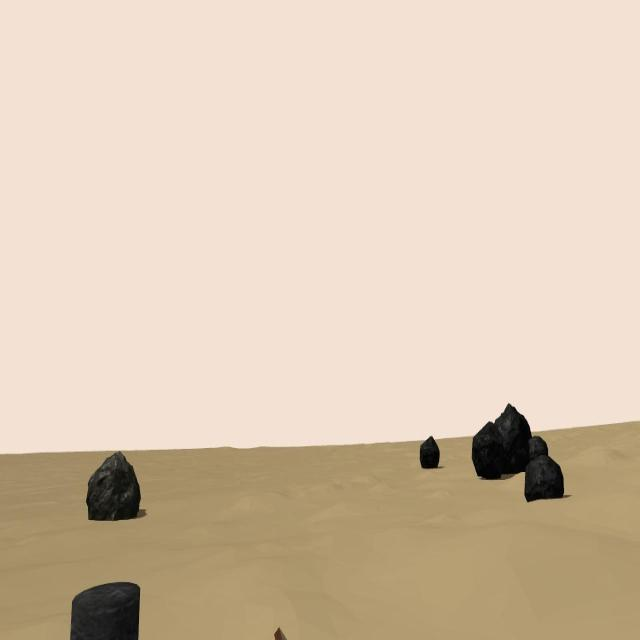rock: (86, 451, 142, 521), (494, 402, 532, 473), (524, 456, 564, 501), (471, 422, 502, 477), (420, 436, 440, 469), (528, 437, 548, 468)
